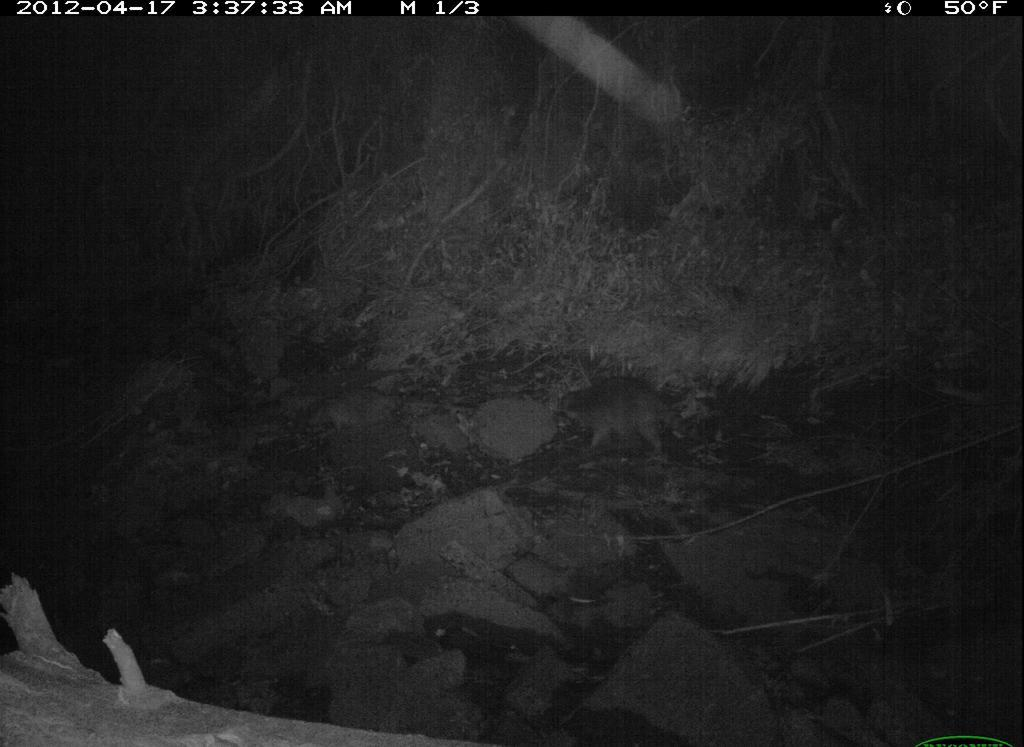raccoon: (545, 365, 727, 463)
